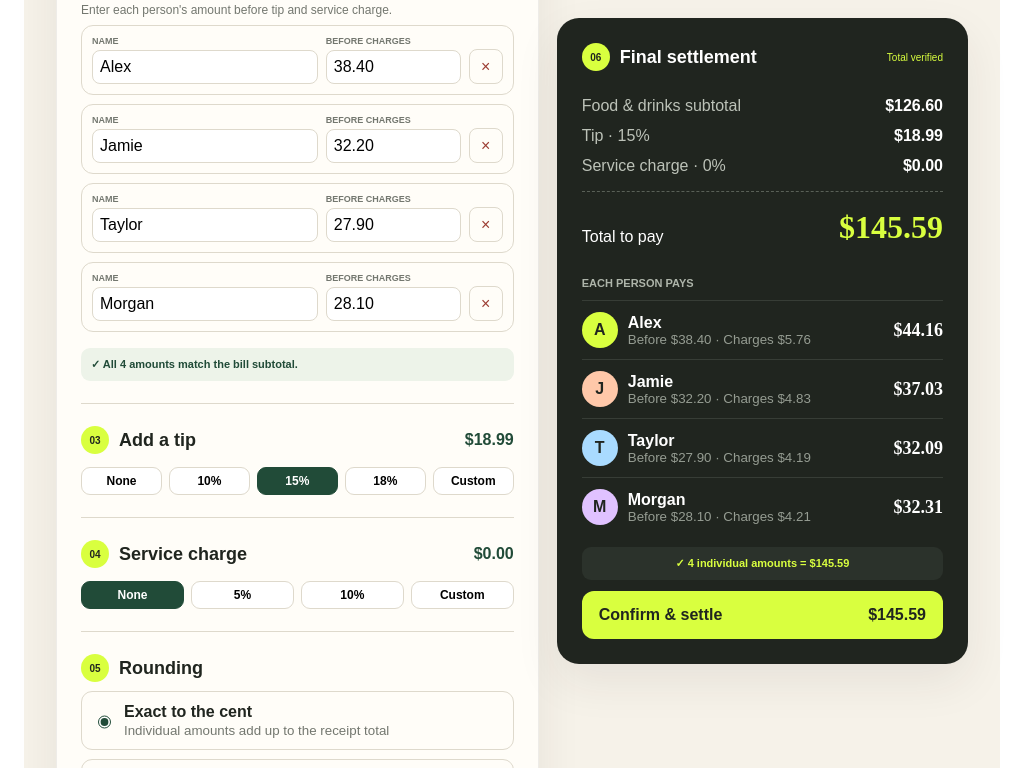
Test: shows save failures and permits retry without claiming success
The width and height of the screenshot is (1024, 768).
(page scrolled)
Click the button "Confirm & settle $145.59" at (661, 614), box x1=582 y1=591 x2=943 y2=639
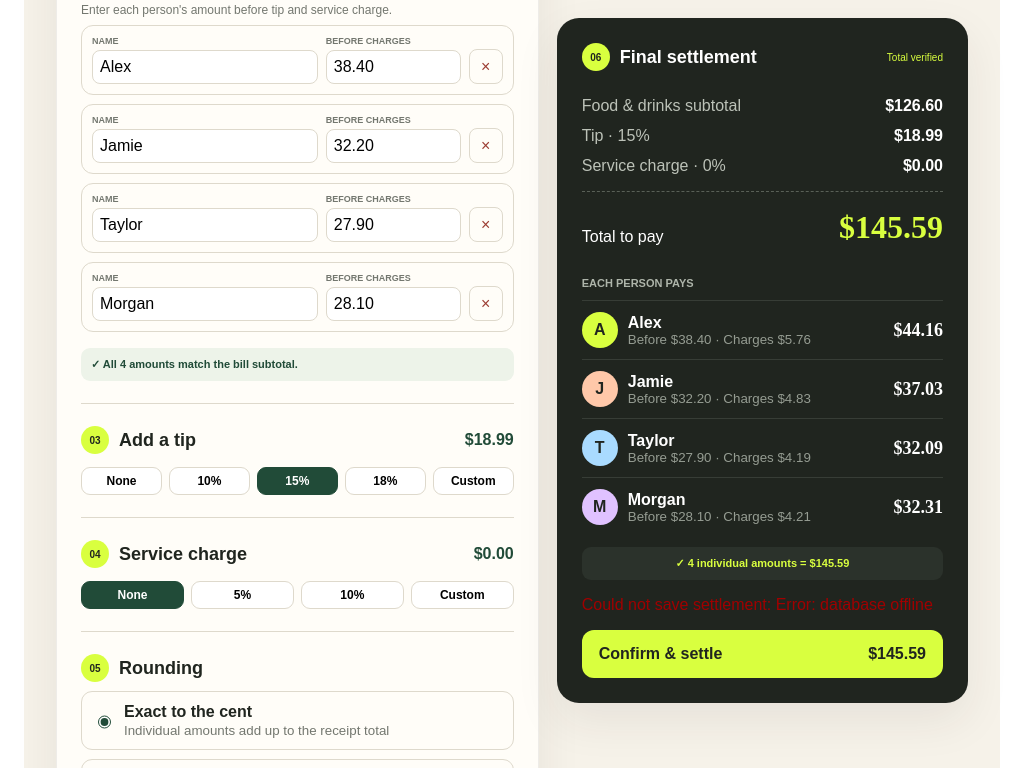
Expected: the button "Confirm & settle $145.59" is enabled, x1=582 y1=630 x2=943 y2=678
Expected: the message reads "Could not save settlement: Error: database offline", x1=582 y1=596 x2=943 y2=614
